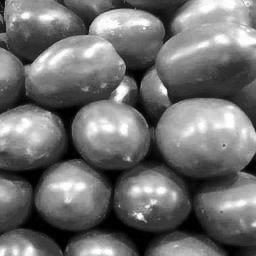bukan telur: (155, 97, 256, 176), (159, 25, 256, 95), (26, 37, 121, 106), (74, 102, 150, 170), (39, 160, 110, 230), (116, 165, 191, 231), (195, 172, 256, 247)
